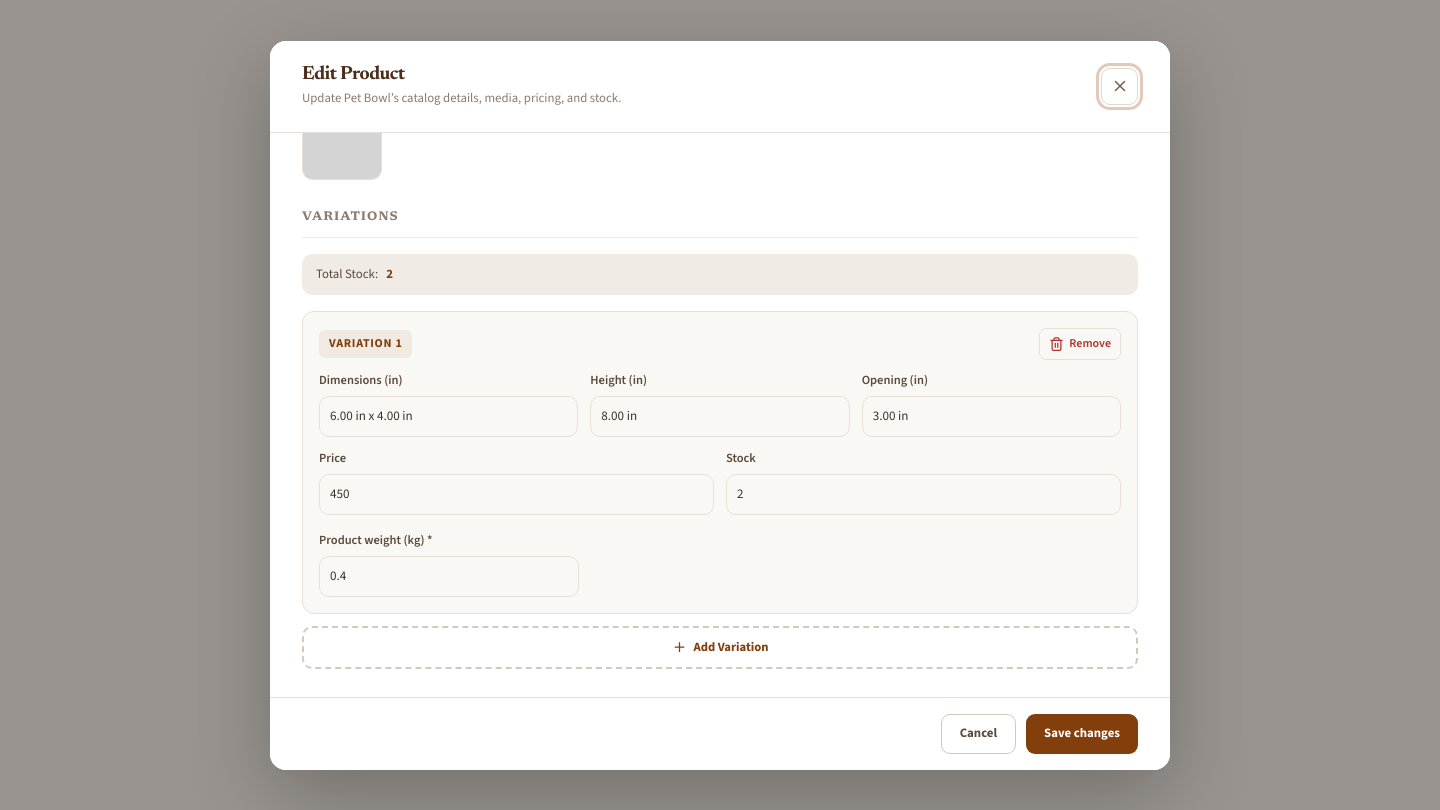
it: ProductEditorDialog › blocks saving invalid weight -1
(page scrolled)
Expected: the text "Variation 1" is shown, left=319, top=330, right=412, bottom=358
Step 1. Replace the text in the number field labelled "Product weight (kg) *" with "-1" → (449, 576), box left=319, top=556, right=579, bottom=597
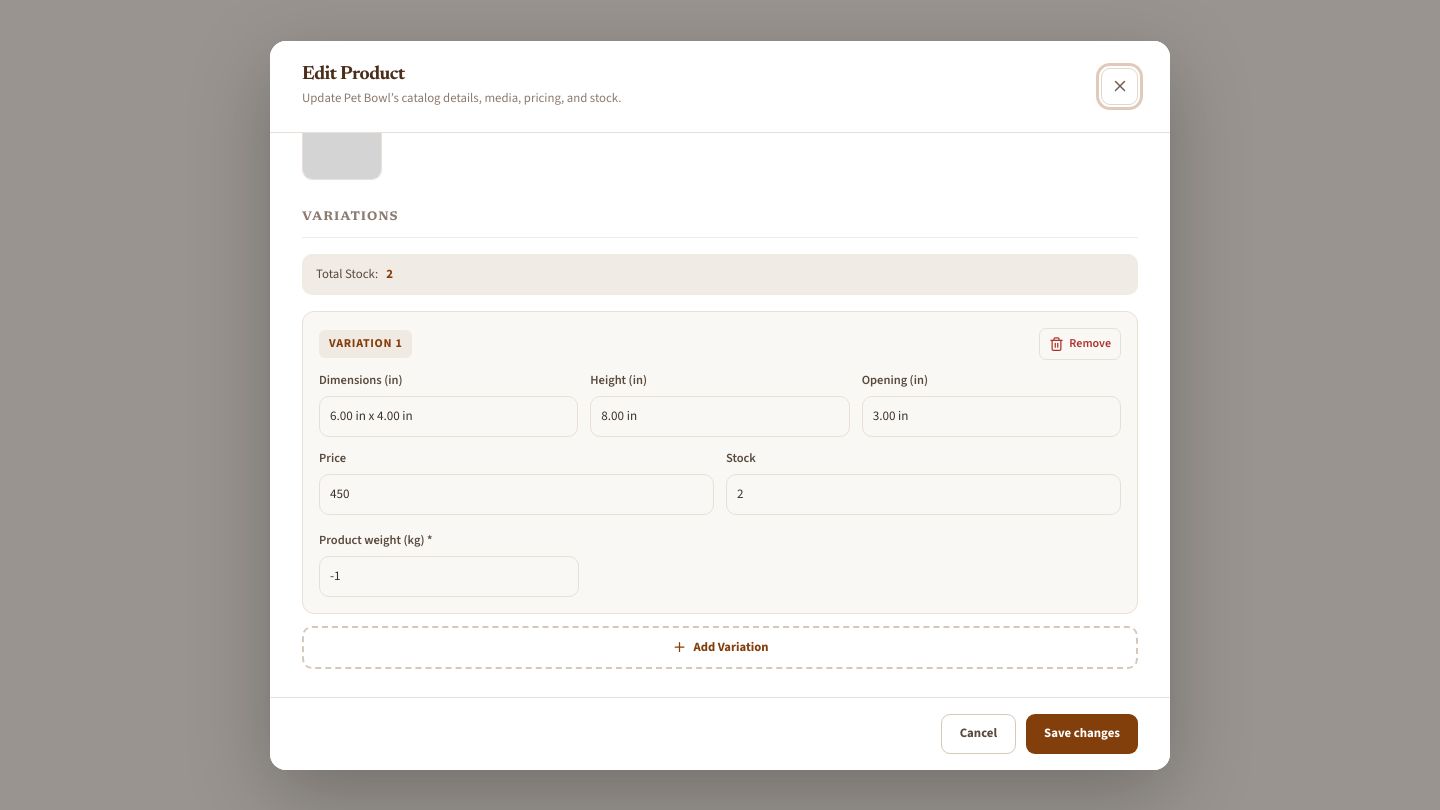
Step 2. Click the button "Save changes" → (1082, 734), box left=1026, top=714, right=1138, bottom=754
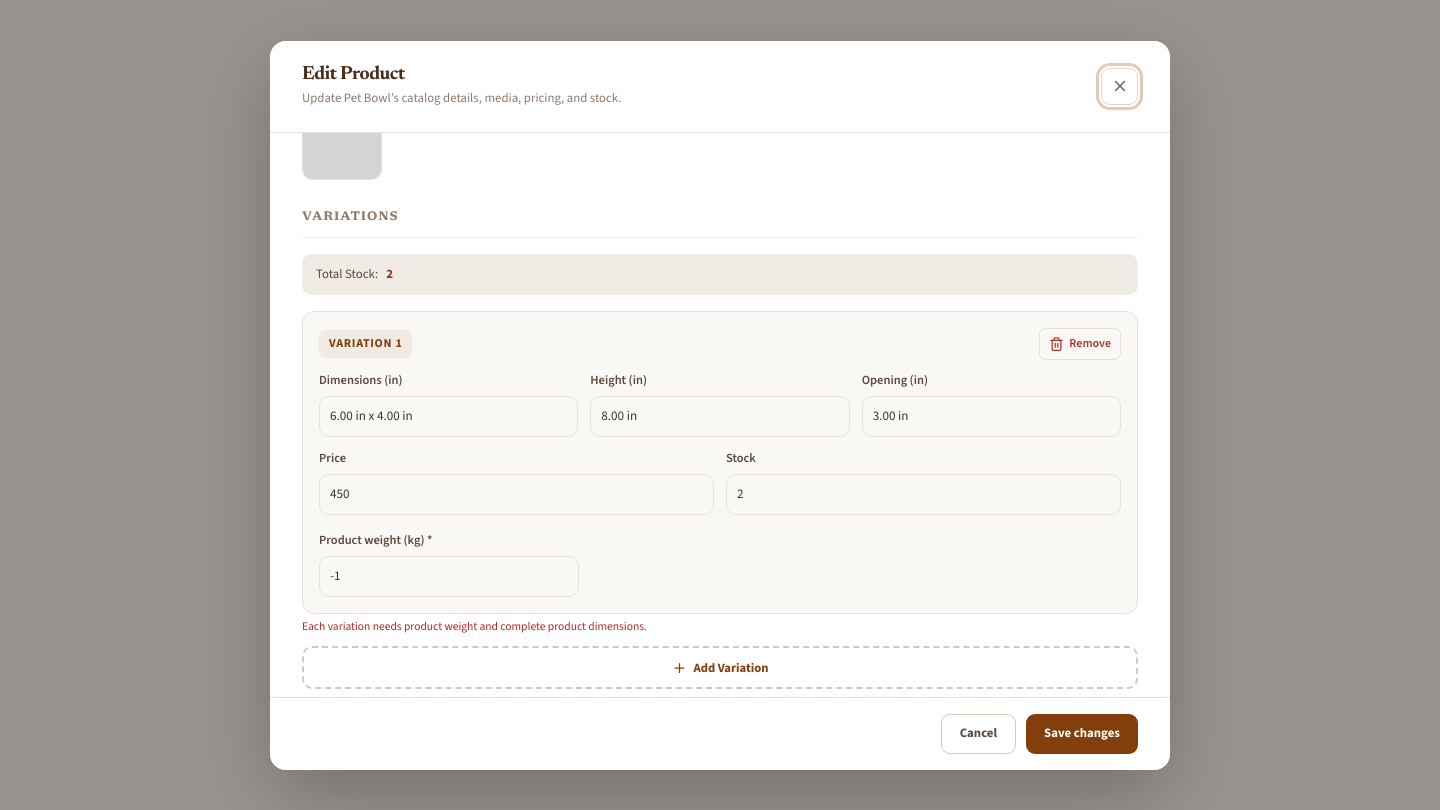
Now the message shows "needs product weight", box left=302, top=618, right=647, bottom=635
